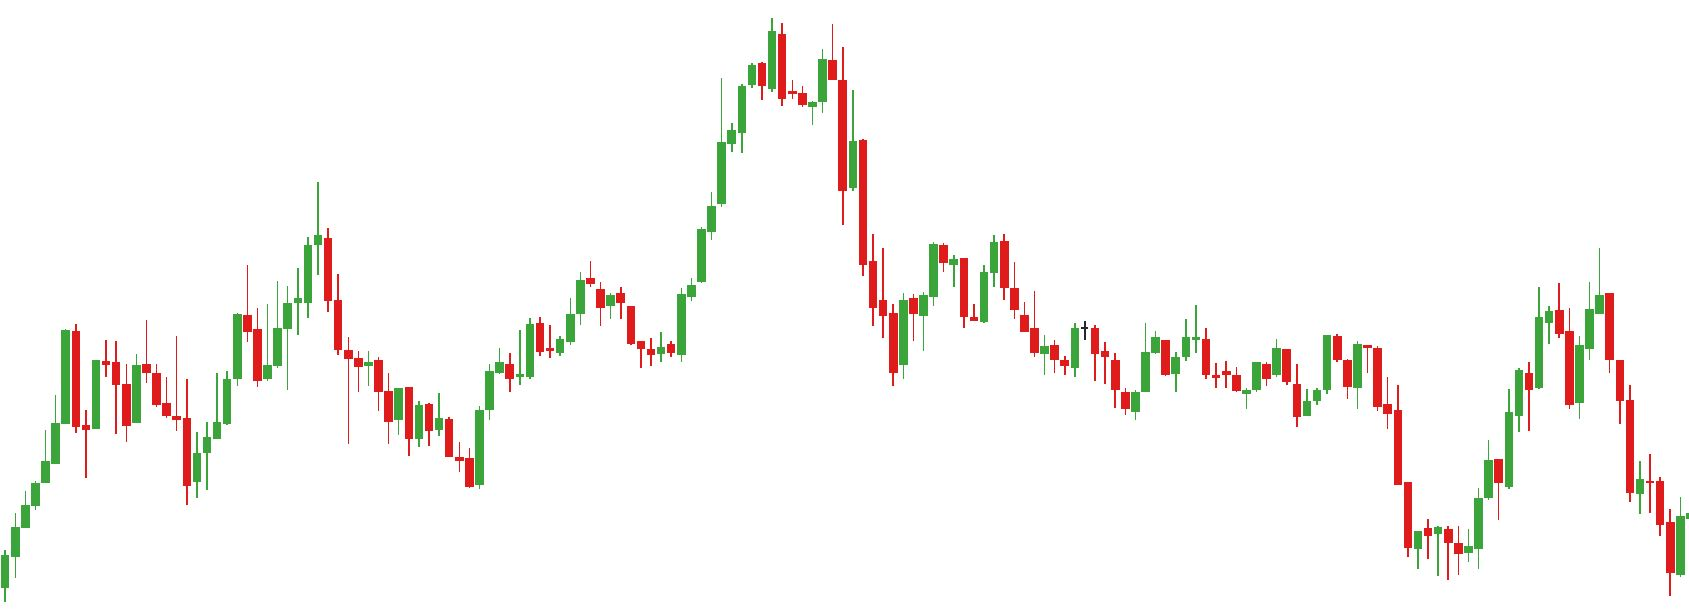buy: (80, 370, 204, 509), (547, 302, 665, 375)
sell: (245, 172, 332, 358), (1532, 244, 1617, 390), (927, 222, 1010, 312), (1267, 333, 1341, 398)
